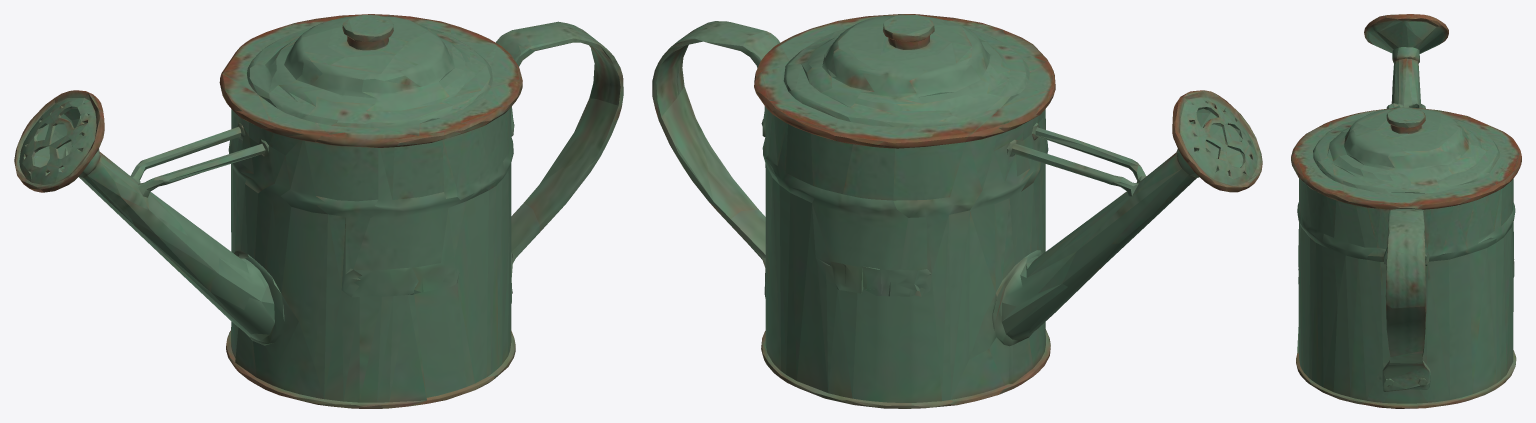
File: can.glb
3 renders of one model, left to right at view 1: azimuth 30°, elevation 25°; view 2: azimuth 150°, elevation 25°; view 3: azimuth 270°, elevation 25°, orthographic. The views are drawn at different scales.
Bounding box in the file's own units: 1.9 × 1 × 0.85.
1 material, 1 textured.
